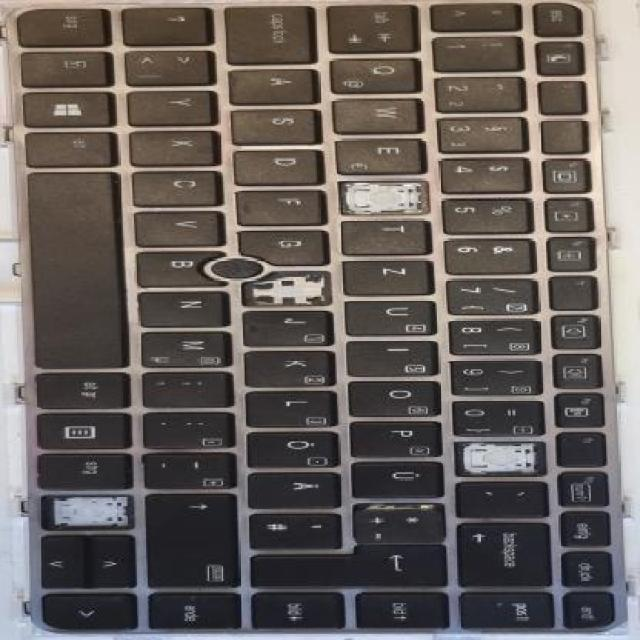Keyboard problems: (242, 271, 331, 306), (40, 495, 132, 528), (455, 443, 545, 474), (342, 182, 428, 212)
